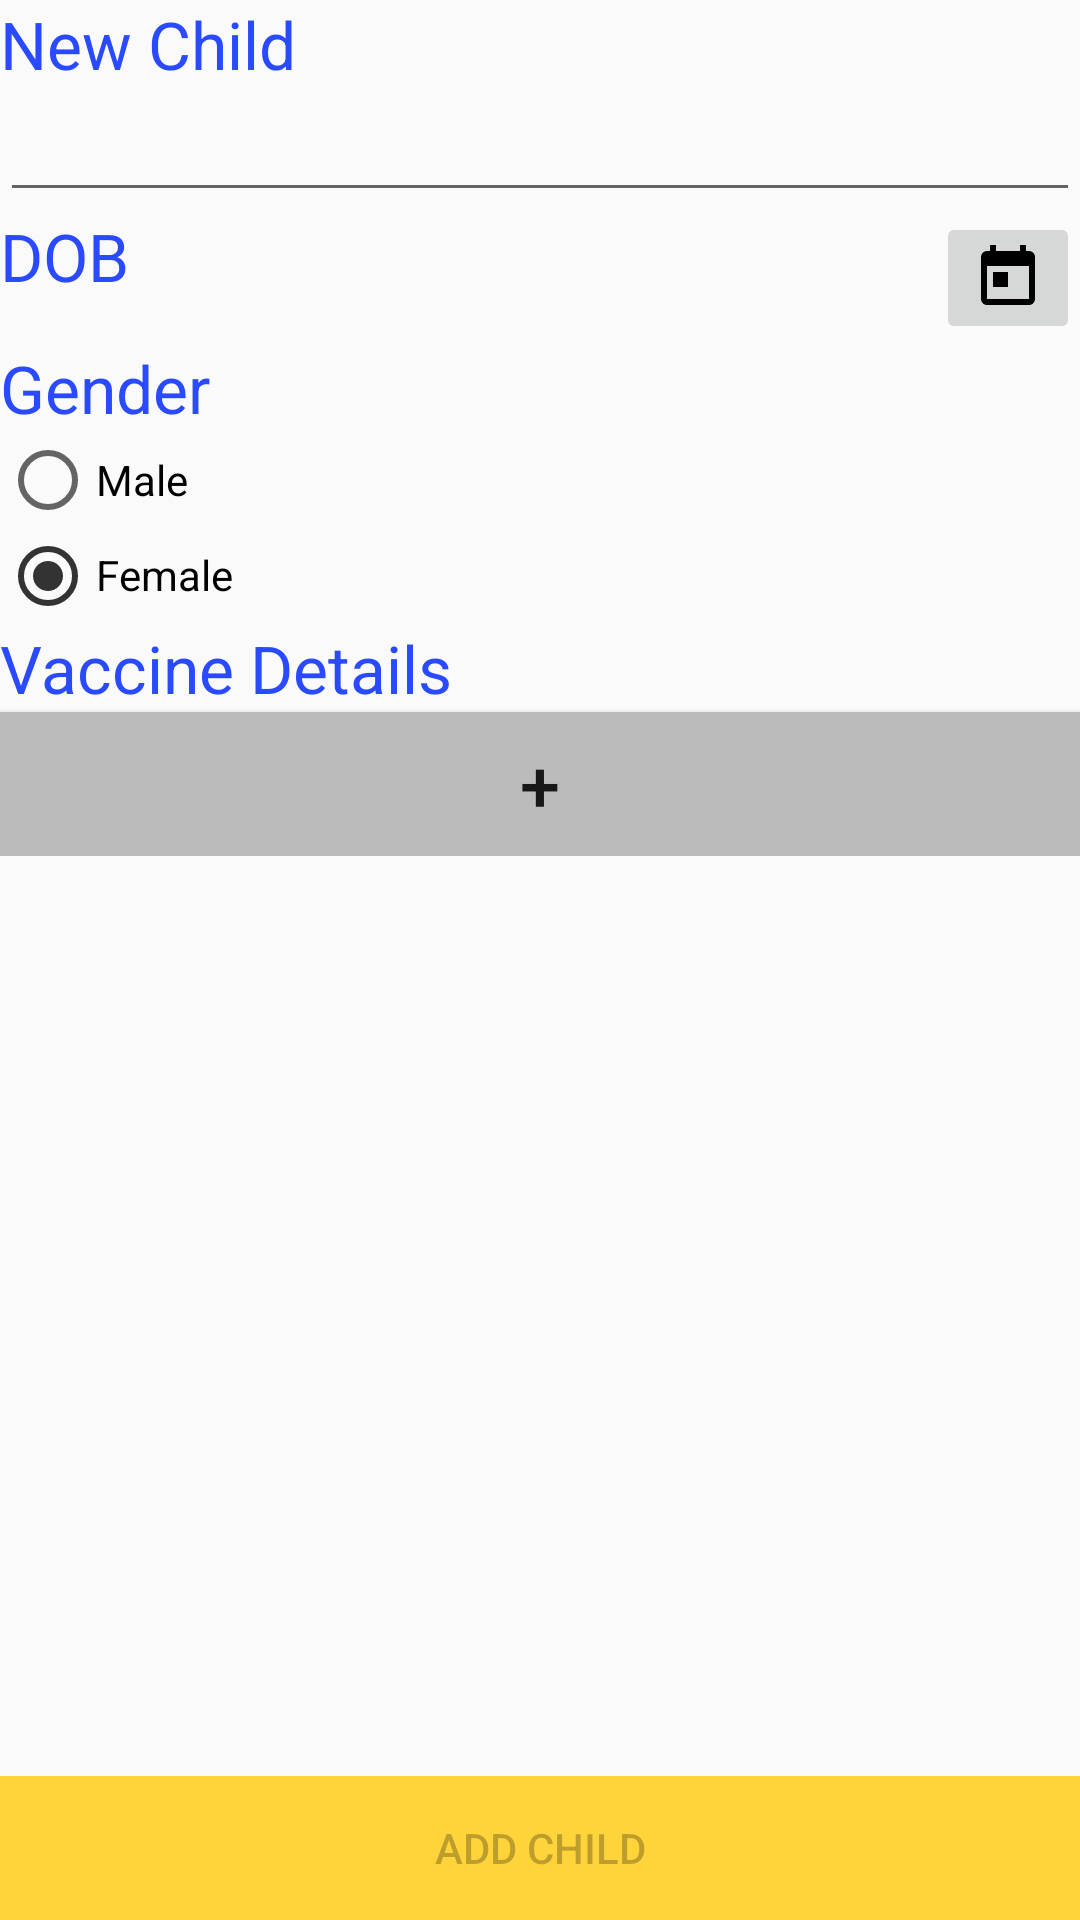

Icon bounding boxes for this 1080w x 1920h phone screenshot, format [left=x1, top=y1, right=x2, bottom=y2]:
calendar: [left=948, top=230, right=1068, bottom=326]
